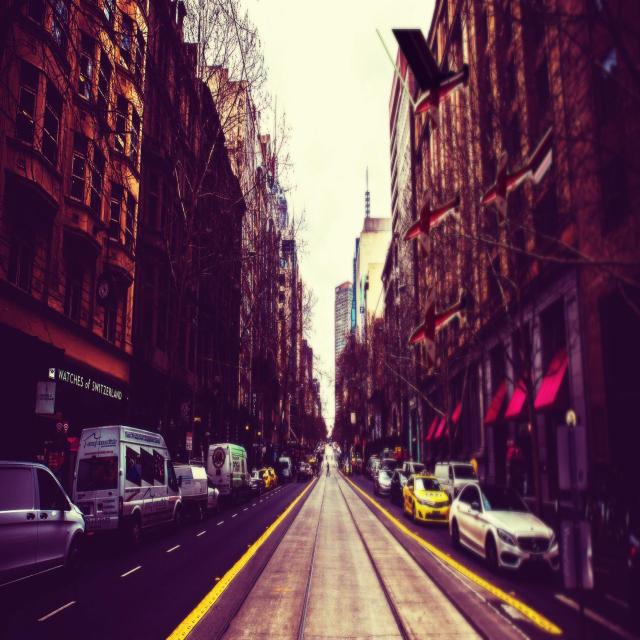airplane: (374, 30, 470, 116), (481, 124, 552, 204), (407, 289, 467, 363), (403, 185, 461, 238)
